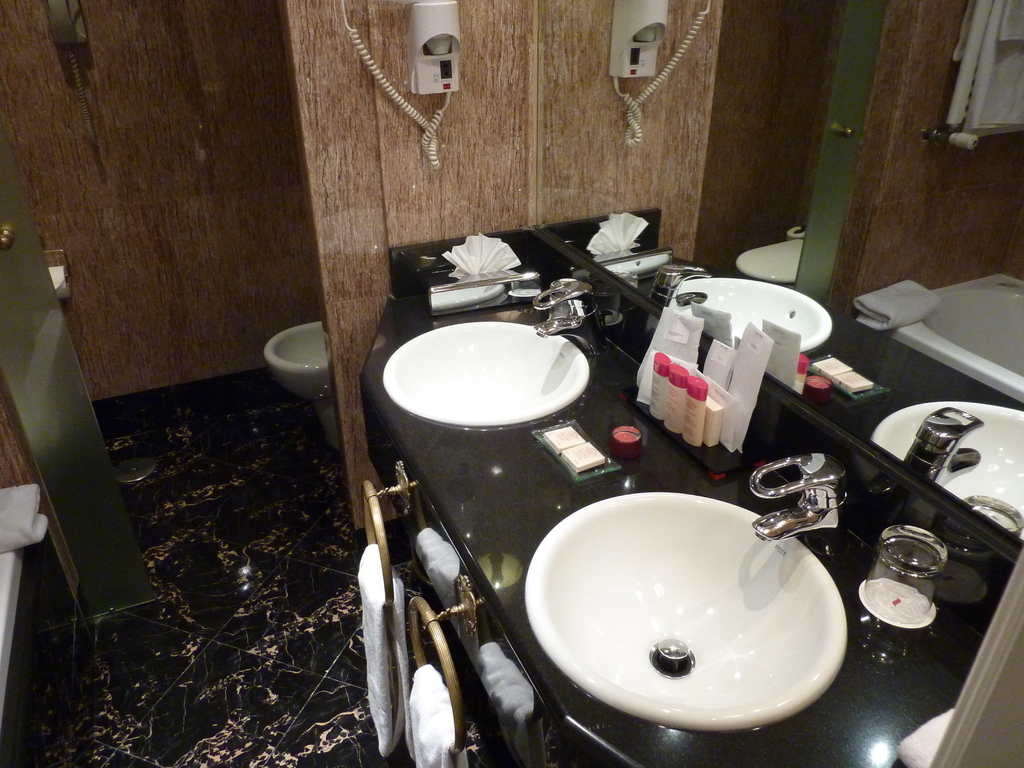tap: (748, 447, 842, 532), (529, 277, 595, 351)
